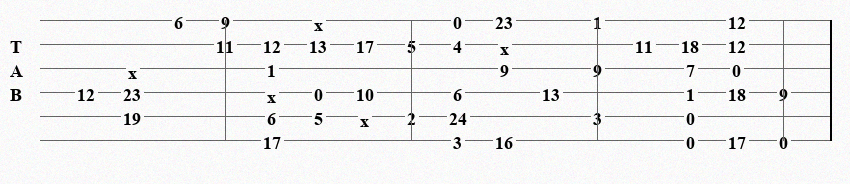0: (314, 84, 327, 100), (453, 12, 466, 28), (686, 108, 699, 124), (686, 132, 699, 148), (732, 60, 745, 76), (779, 132, 792, 148)
1: (267, 60, 280, 76), (593, 12, 606, 28), (686, 84, 699, 100)
10: (356, 84, 378, 100)
11: (216, 36, 238, 52), (635, 36, 657, 52)
12: (77, 84, 99, 100), (263, 36, 285, 52), (728, 12, 750, 28), (728, 36, 750, 52)
13: (309, 36, 331, 52), (542, 84, 564, 100)
16: (495, 132, 517, 148)
17: (263, 132, 285, 148), (356, 36, 378, 52), (728, 132, 750, 148)
18: (681, 36, 703, 52), (728, 84, 750, 100)
19: (123, 108, 145, 124)
2: (407, 108, 420, 124)
23: (123, 84, 145, 100), (495, 12, 517, 28)
24: (449, 108, 471, 124)
3: (453, 132, 466, 148), (593, 108, 606, 124)
4: (453, 36, 466, 52)
5: (314, 108, 327, 124), (407, 36, 420, 52)
6: (174, 12, 187, 28), (267, 108, 280, 124), (453, 84, 466, 100)
7: (686, 60, 699, 76)
9: (221, 12, 234, 28), (500, 60, 513, 76), (593, 60, 606, 76), (779, 84, 792, 100)
x: (128, 62, 141, 74), (267, 86, 280, 98), (314, 14, 327, 26), (360, 110, 373, 122), (500, 38, 513, 50)
